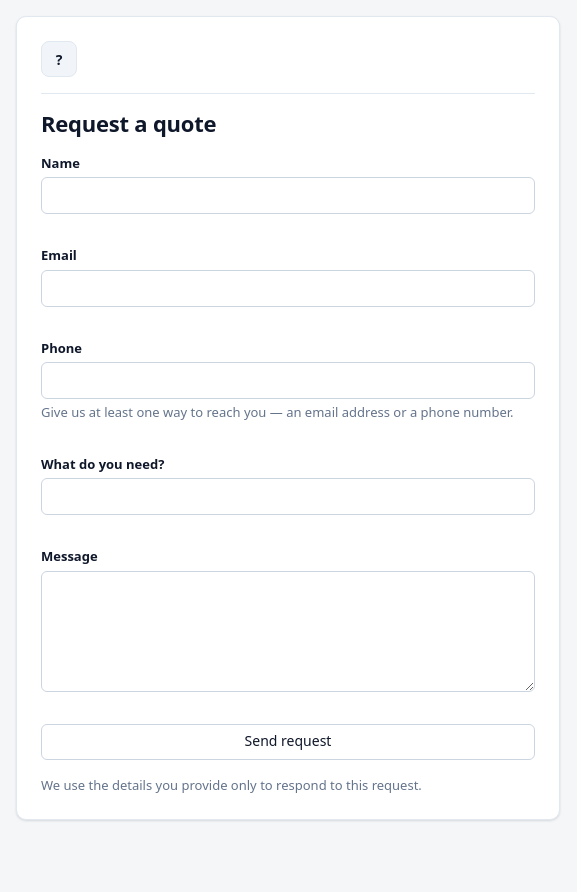
requires a message and at least one contact method
Step 1. Click the button "Send request" → x=288, y=742, box [41,724,535,760]
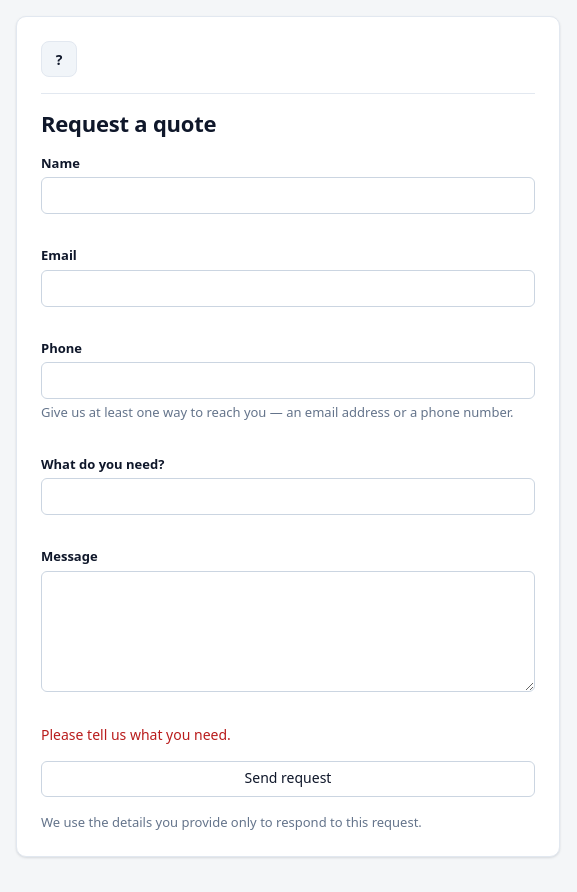
Expected: the message reads "Please tell us what you need.", [41,724,231,744]
Step 2. Type "My roof leaks" into the text box labelled "Message" → x=288, y=631, box [41,570,535,692]
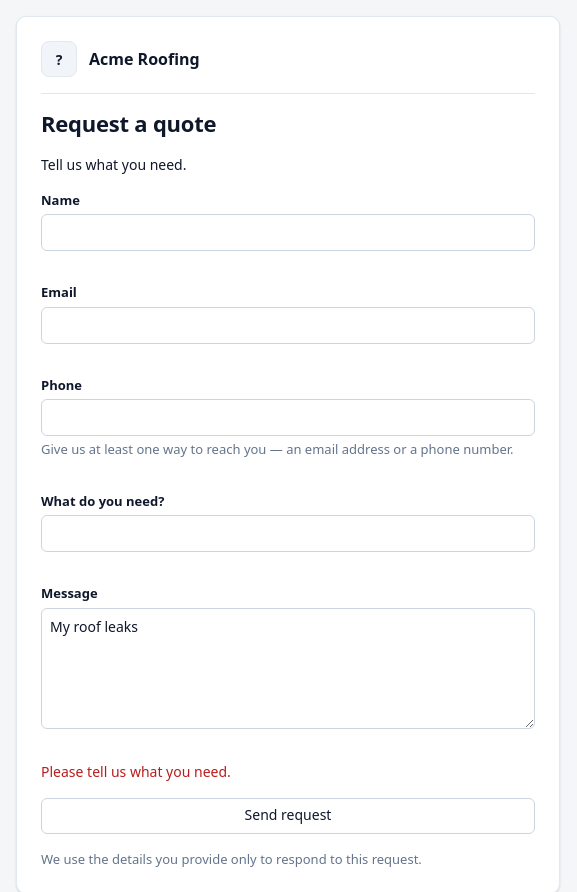
Step 3. Click the button "Send request" → x=288, y=816, box [41,798,535,834]
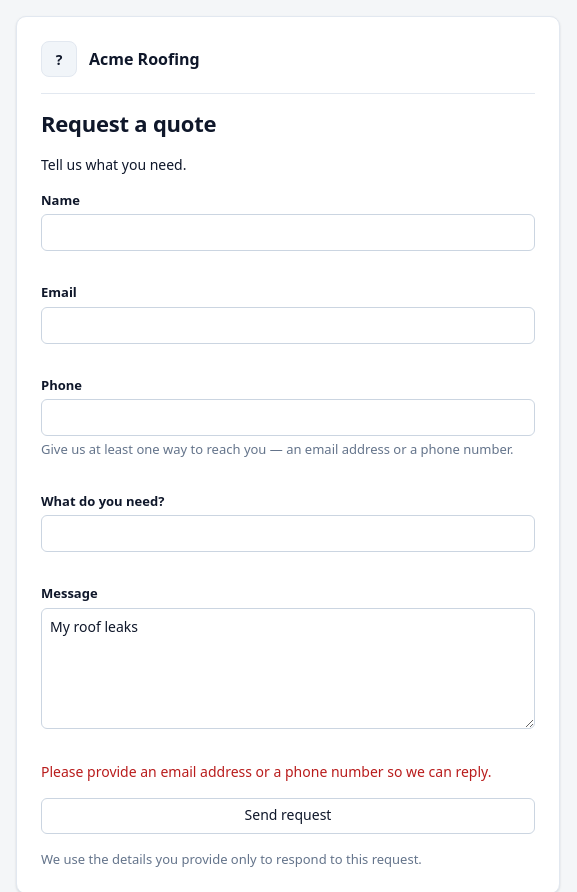
Expected: the message shows "Please provide an email address or a phone number", [41,762,491,780]
